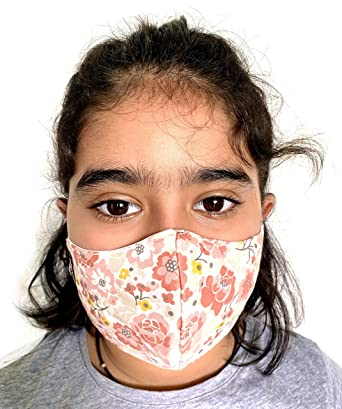with_mask: (64, 87, 280, 381)
